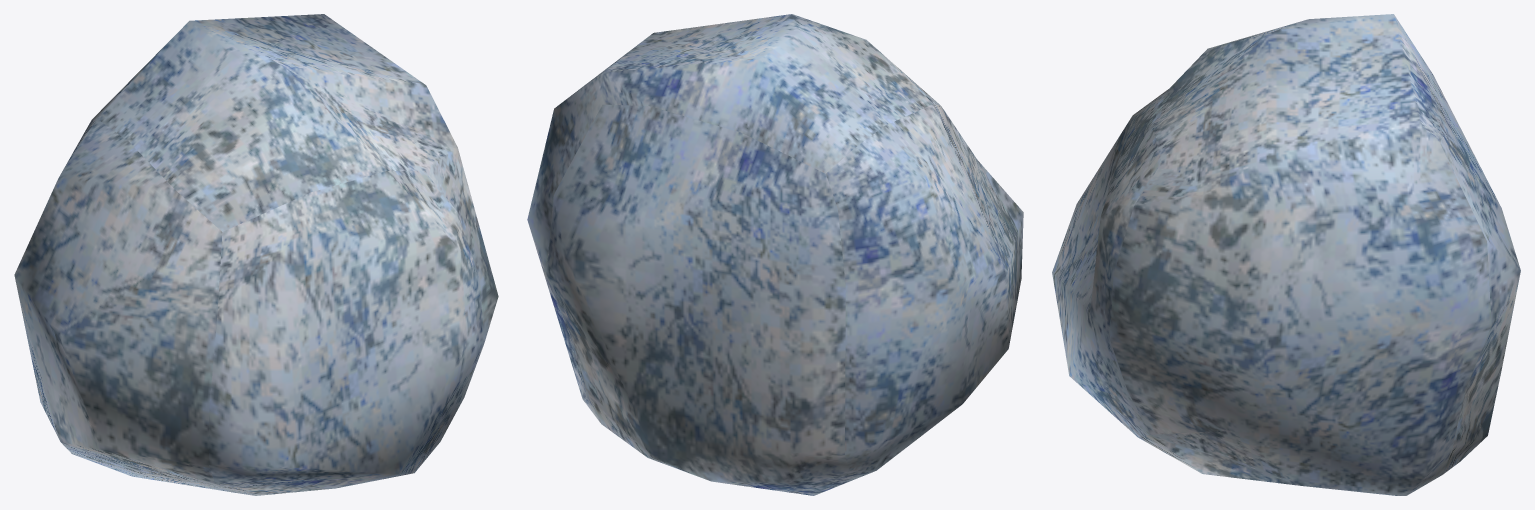
Rendered from asteroid_ice_medium_s01_l2.fbx.
3 views of the same model, side by side, from view 1: azimuth 30°, elevation 25°; view 2: azimuth 150°, elevation 25°; view 3: azimuth 270°, elevation 25° (orthographic). The views are drawn at different scales.
Visible parts, largest first — view 1: mesh_node; view 2: mesh_node; view 3: mesh_node.
Part boxes in pixels (x1,y1,x2,y2): mesh_node: [14, 14, 498, 495]; mesh_node: [527, 14, 1023, 495]; mesh_node: [1052, 14, 1520, 495].
Bounding box in the file's own units: 67.25 × 67.52 × 65.6.
